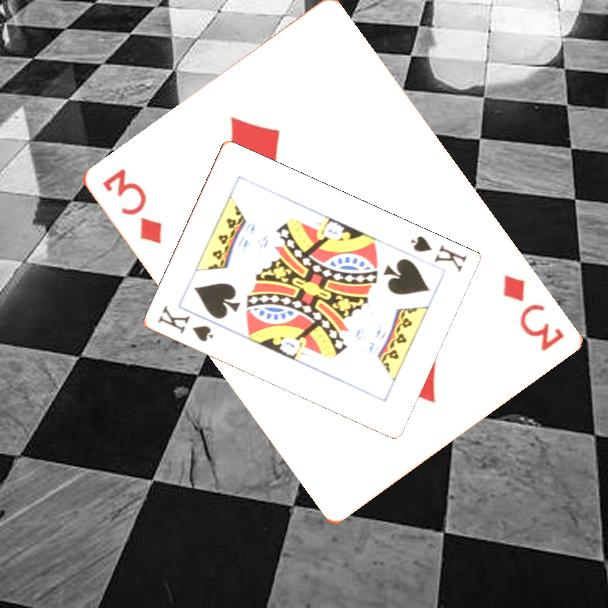d03: (498, 271, 567, 354), (98, 164, 165, 248)
s13: (154, 302, 216, 345), (407, 232, 469, 275)
